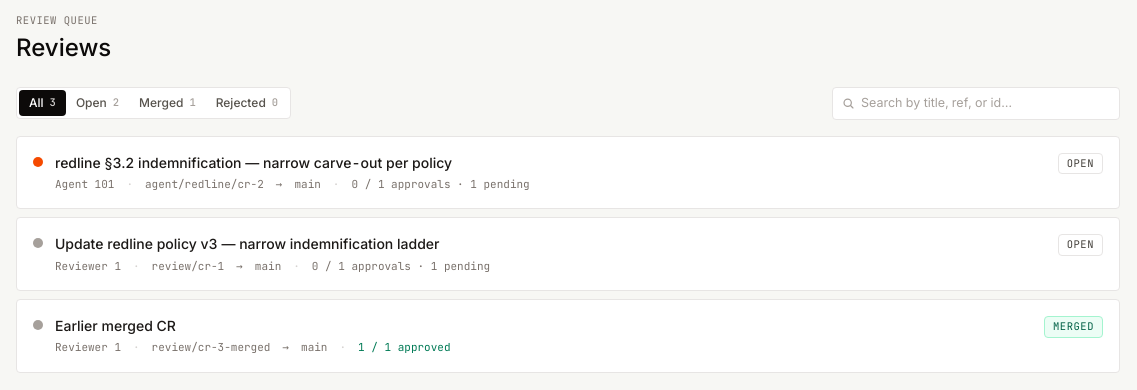
it: ReviewsScreen — no-matches state › 'Clear filters' restores the full list and resets the chip to 'all'
Click the radio button labelled "rejected 0".
click(247, 103)  # box 206,90 -> 288,116
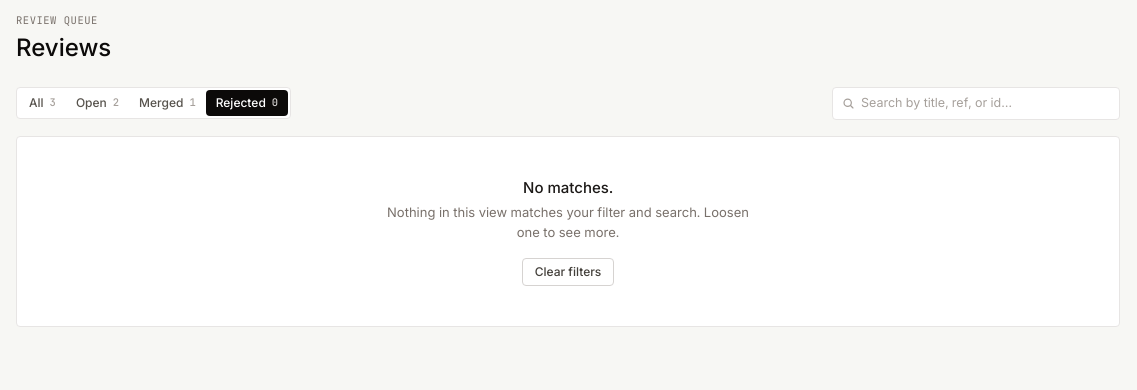
Type "zzzzz" into the search field.
click(976, 103); type("zzzzz")  # box 832,87 -> 1120,120
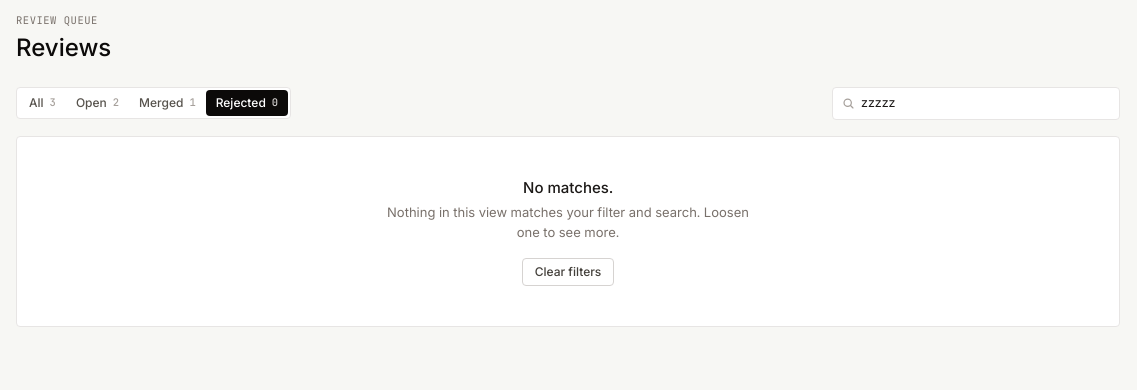
Click the button "Clear filters".
click(568, 272)  # box 522,258 -> 614,286
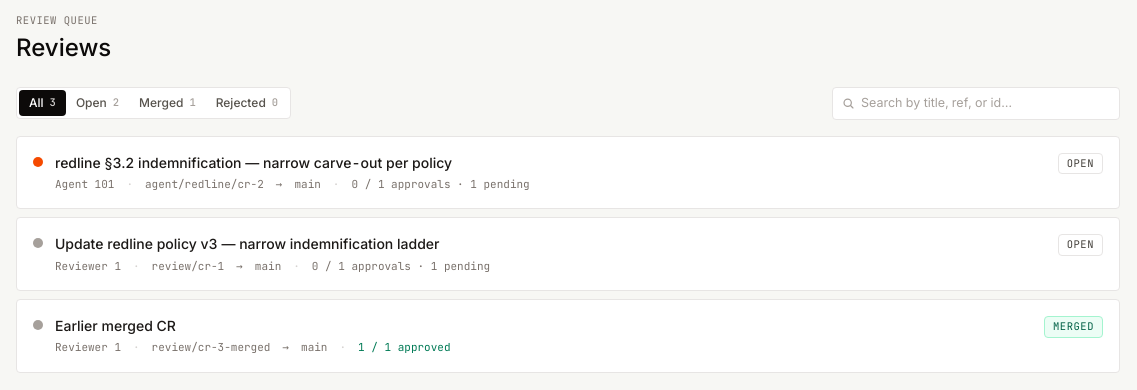
Check: the search field is empty, box 832,87 -> 1120,120
